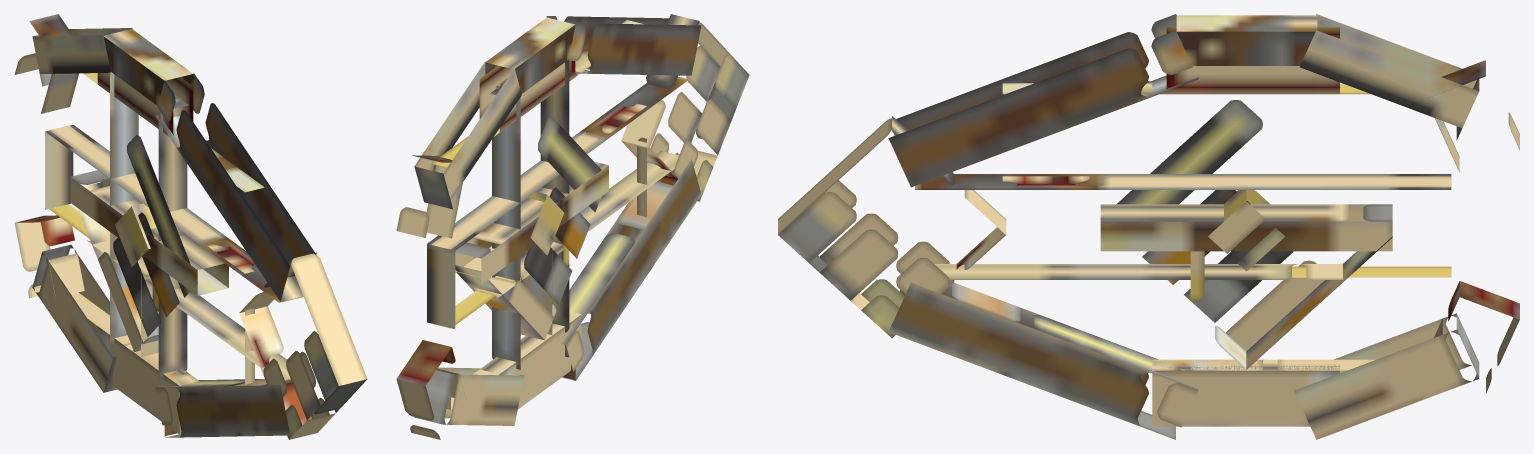
Rendered from gesetz.obj.
The picture shows the model from 3 angles, left to right: view 1: azimuth 30°, elevation 25°; view 2: azimuth 150°, elevation 25°; view 3: azimuth 270°, elevation 25°; orthographic projection. The views are drawn at different scales.
Parts seen in each view (by area): view 1: cube.021; view 2: cube.021; view 3: cube.021.
Part boxes in pixels (x1=…): cube.021: x1=14, y1=14, x2=367, y2=439; cube.021: x1=396, y1=14, x2=749, y2=439; cube.021: x1=778, y1=14, x2=1519, y2=439.
Bounding box in the file's own units: 0.1006 × 0.9634 × 1.58.
